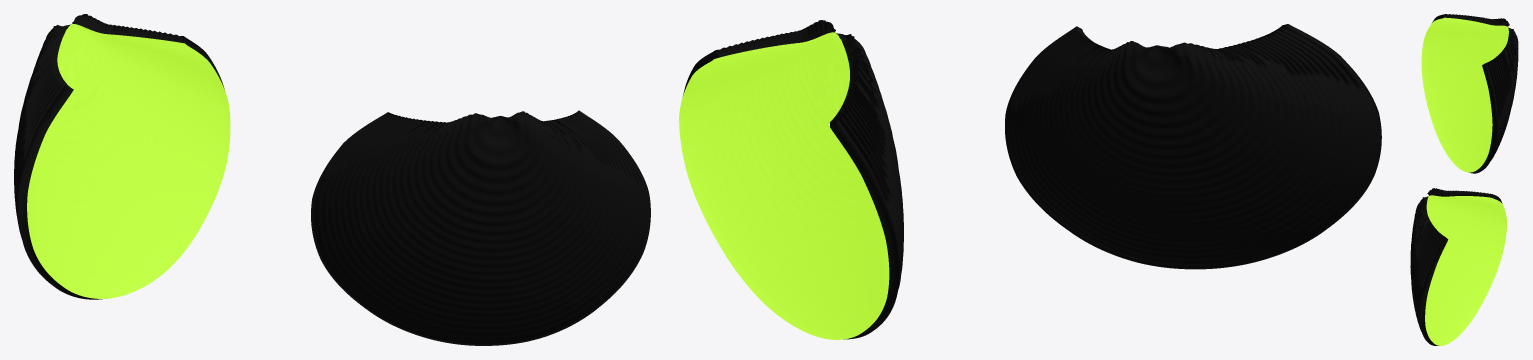
3 renders of one model, left to right at view 1: azimuth 30°, elevation 25°; view 2: azimuth 150°, elevation 25°; view 3: azimuth 270°, elevation 25°, orthographic. The views are drawn at different scales.
Parts seen in each view (by area): view 1: kara_1, uchi_0, kara_0; view 2: kara_0, uchi_1, kara_1; view 3: uchi_0, uchi_1, kara_1, kara_0.
Boxes of the visible parts, x1,y1,x2,y2 form: kara_1: (311, 110, 650, 345); uchi_0: (27, 24, 230, 298); kara_0: (14, 14, 224, 299); kara_0: (1005, 24, 1381, 269); uchi_1: (679, 32, 889, 339); kara_1: (683, 20, 903, 339); uchi_0: (1421, 17, 1508, 172); uchi_1: (1425, 195, 1506, 345); kara_1: (1410, 188, 1502, 345); kara_0: (1432, 14, 1518, 173).
Size of the model in its own units: 1.59 by 0.9217 by 0.4241.
